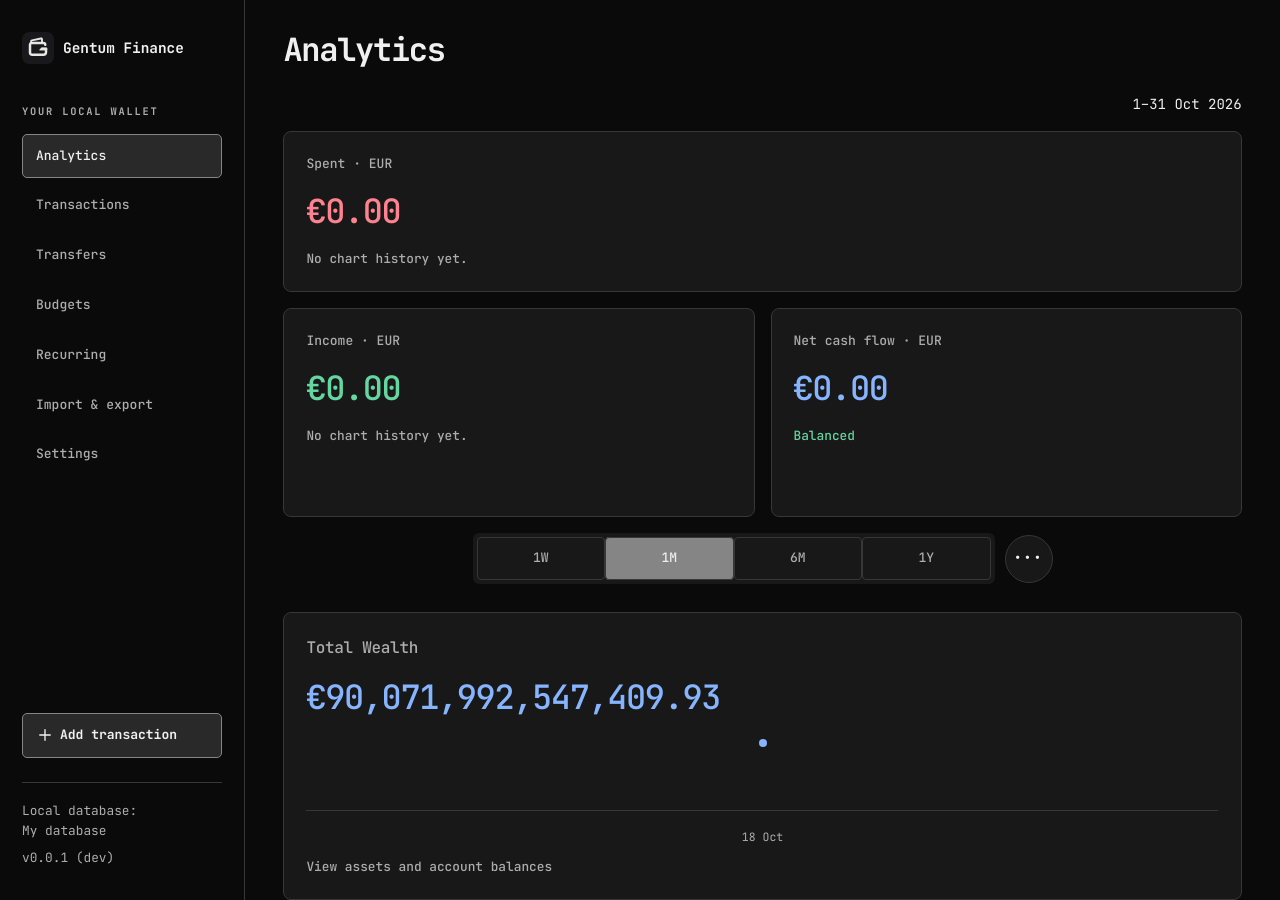
Test: renames a category with a prefilled dialog and restores focus on cancel and save
Expected: the heading "Total Wealth" is shown, left=306, top=635, right=418, bottom=661
Click the button "Settings". click: x=122, y=455
box: left=22, top=432, right=222, bottom=477
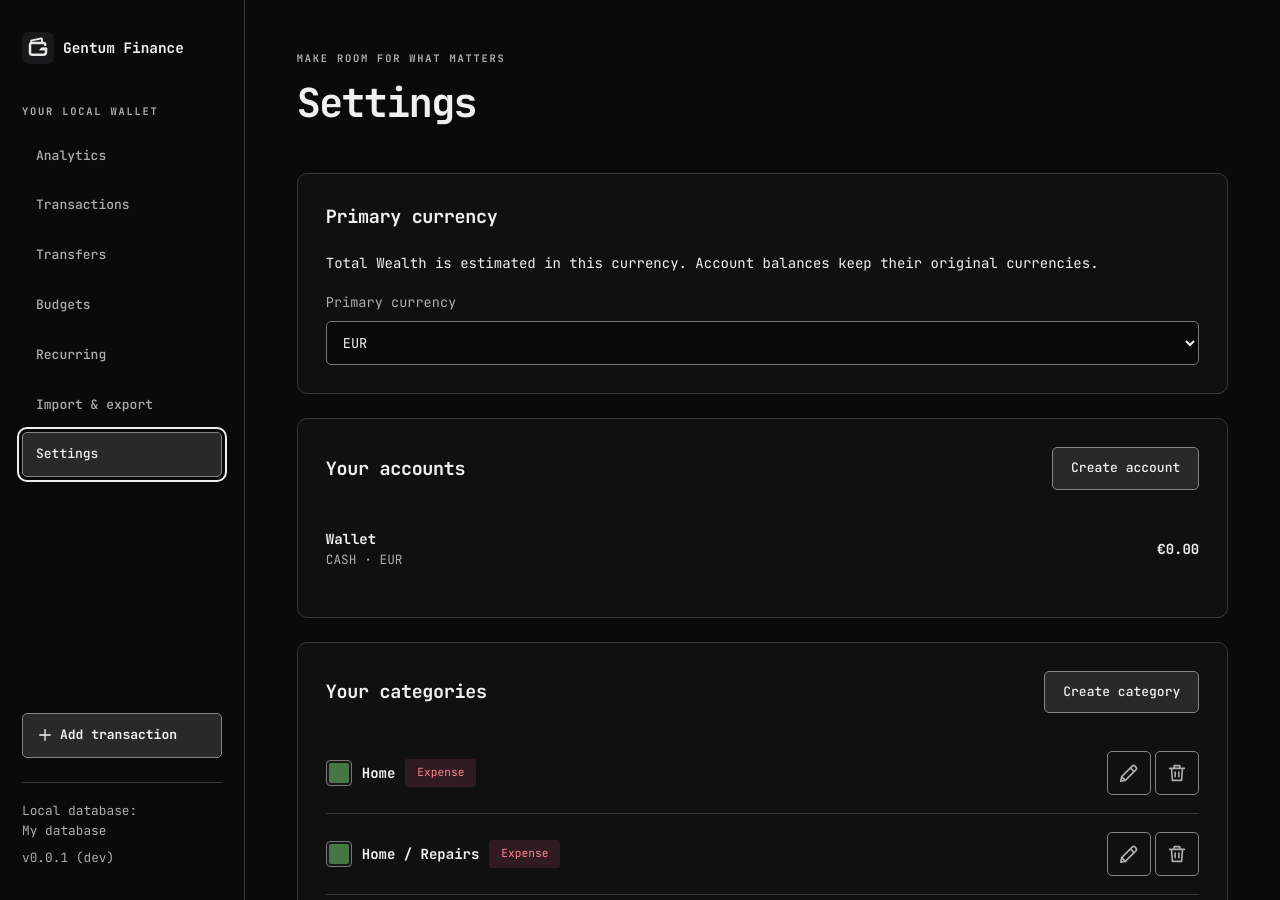
Click the button named "Edit Home / Repairs". click: x=1129, y=854
box: left=1107, top=832, right=1151, bottom=876
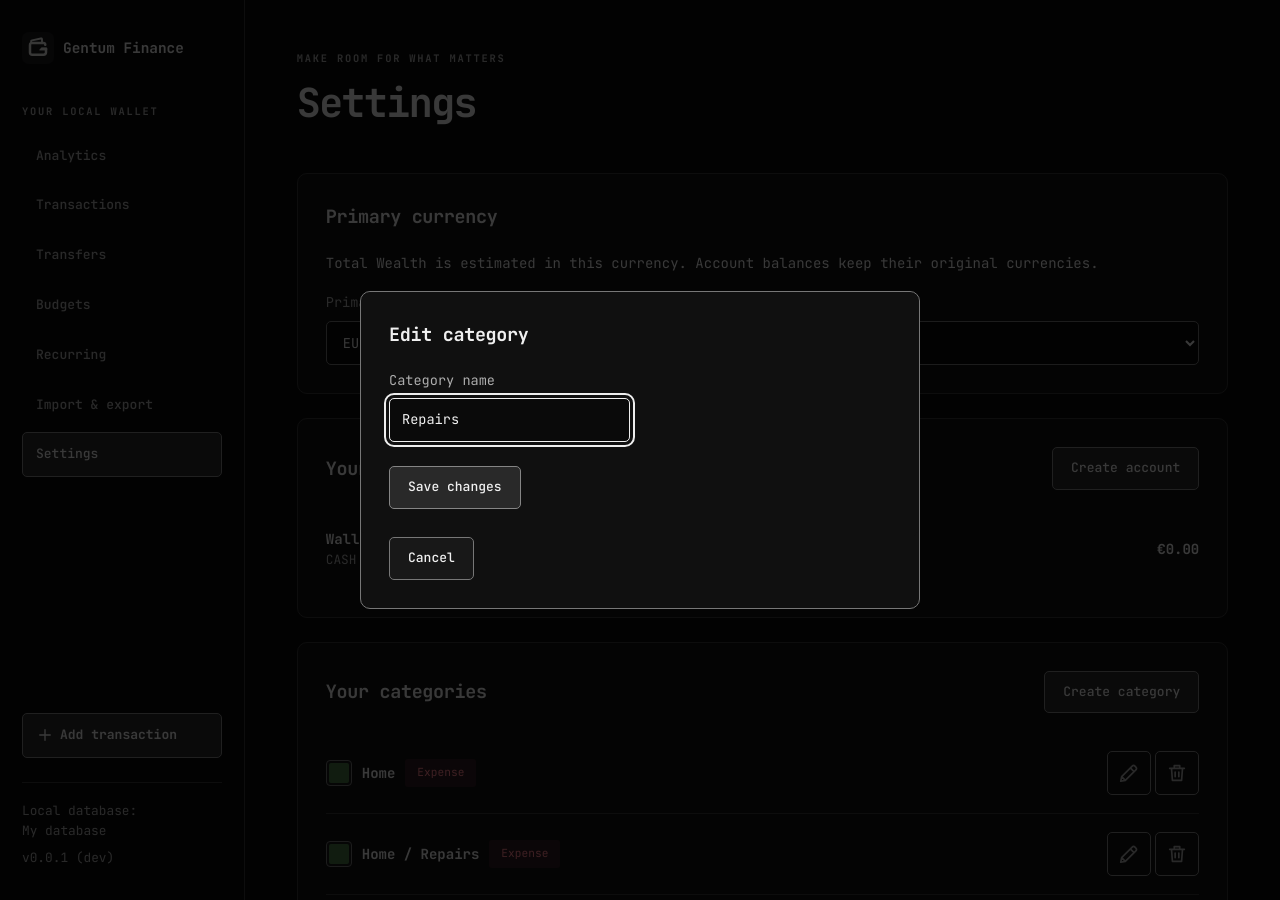
Expected: the field labelled "Category name" holds "Repairs", left=389, top=398, right=630, bottom=442
Click the button "Cancel". click: x=431, y=558
box: left=389, top=537, right=474, bottom=580
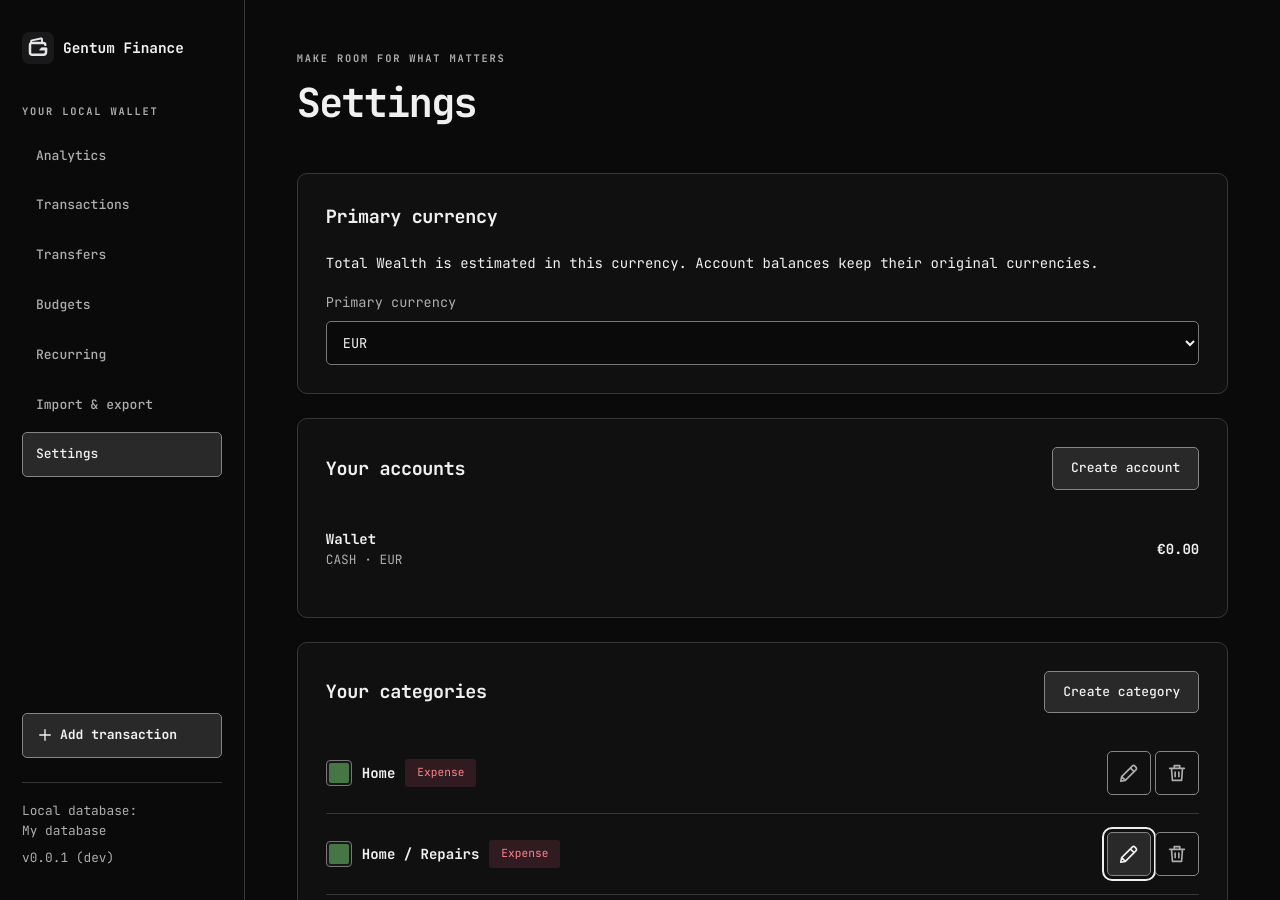
Click the button named "Edit Home / Repairs". click: x=1129, y=854
box: left=1107, top=832, right=1151, bottom=876
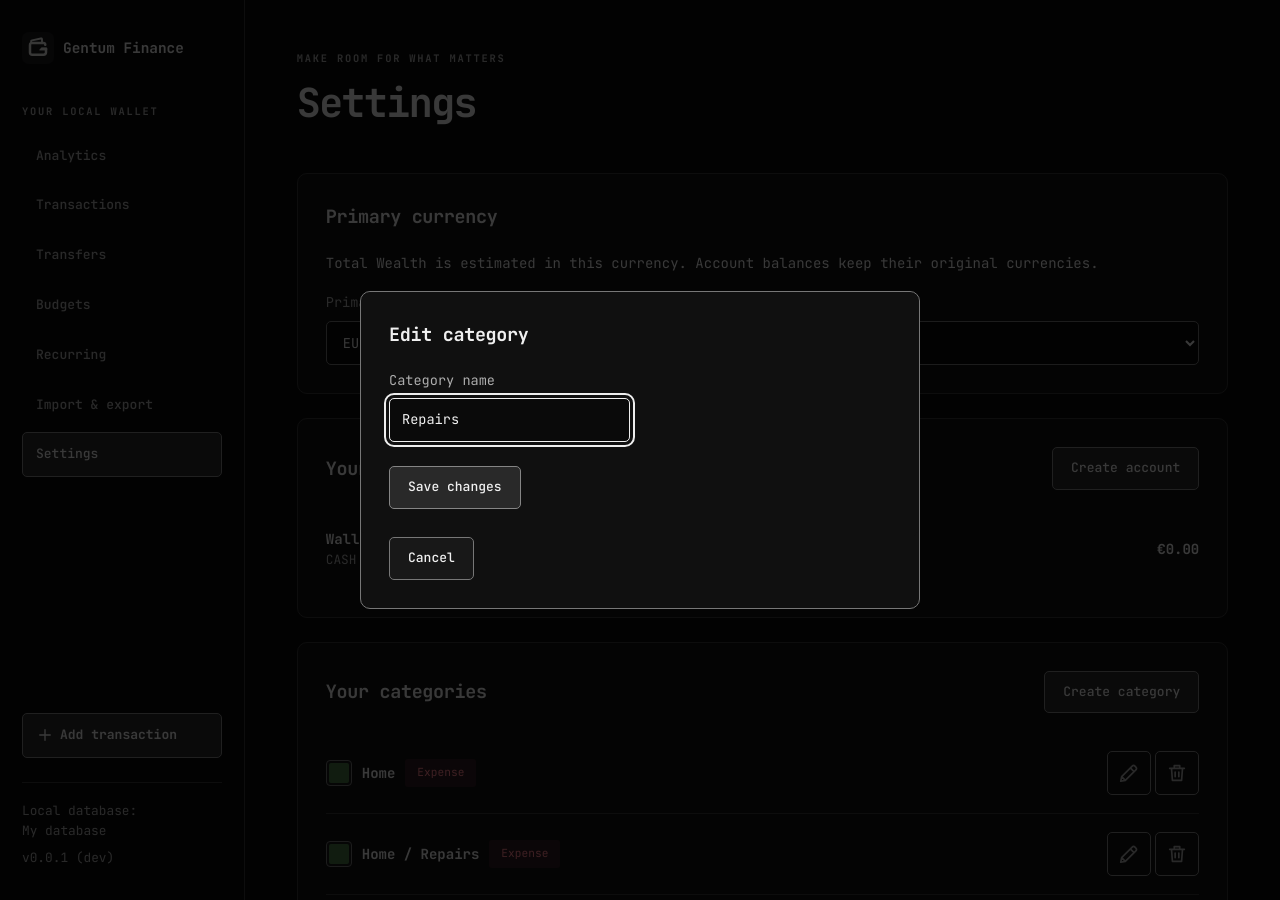
Replace the text in the field labelled "Category name" with "Maintenance". click: x=510, y=420
box: left=389, top=398, right=630, bottom=442
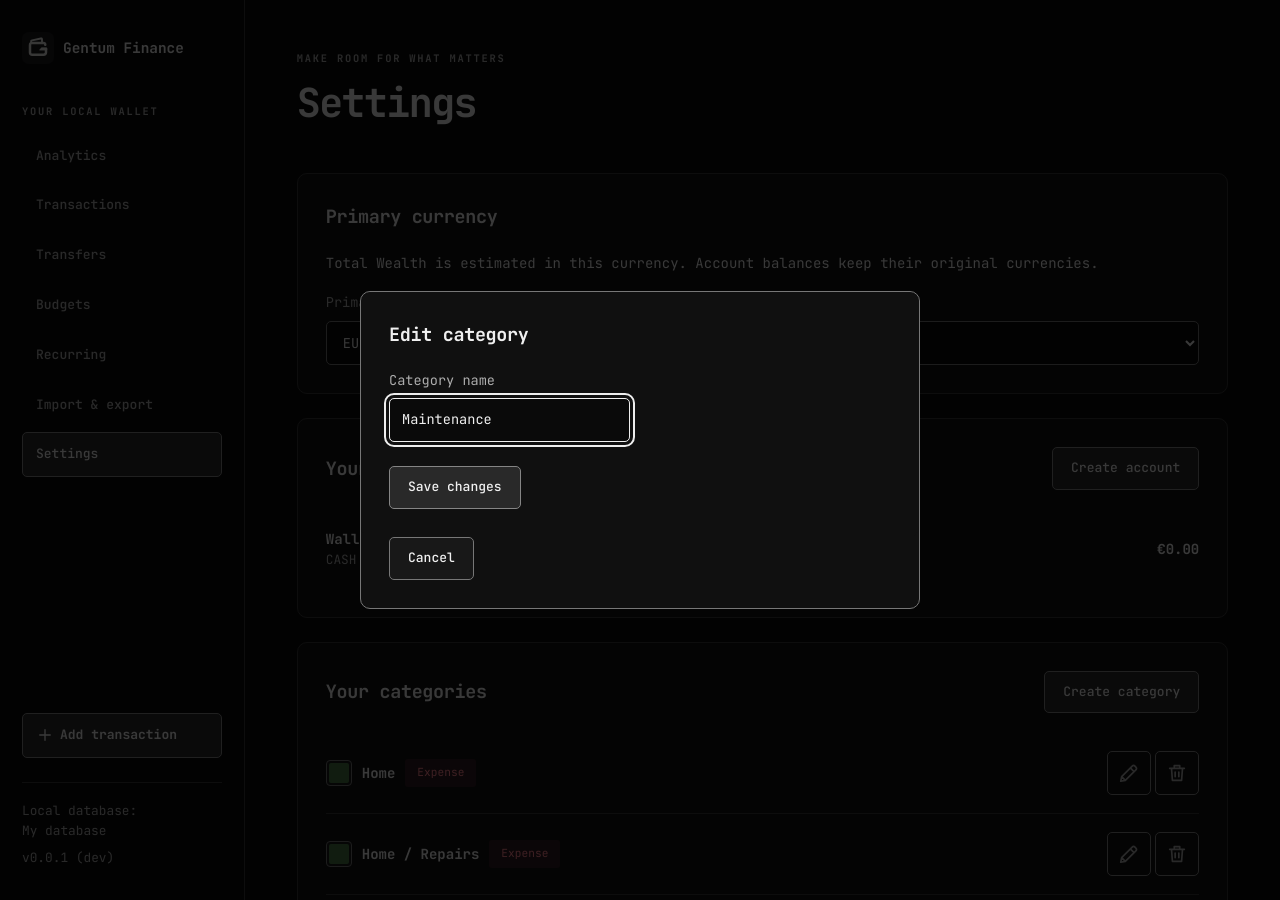
Click the button "Save changes". click: x=455, y=488
box: left=389, top=466, right=521, bottom=509
(page scrolled)
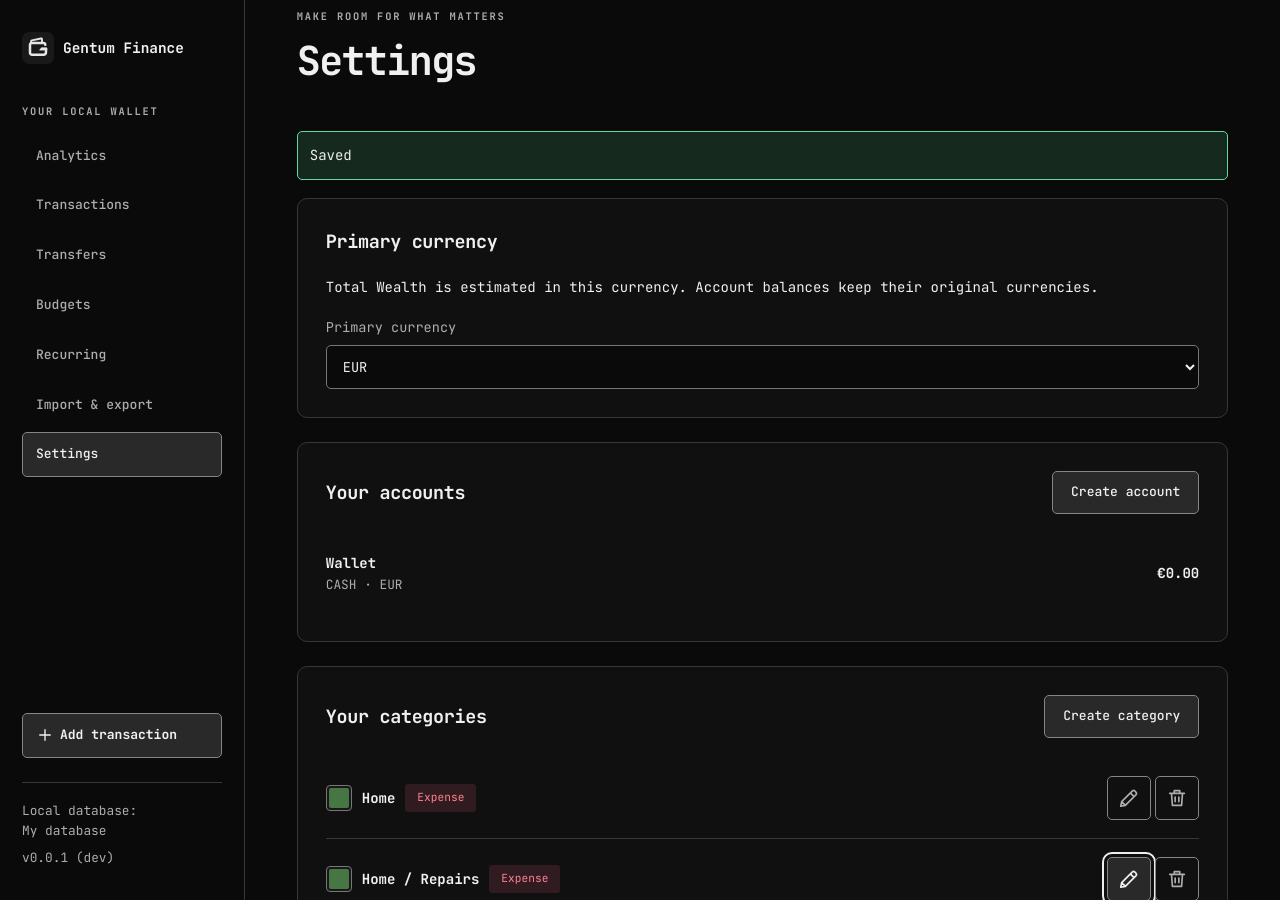
Expected: the text "Saved" is shown, left=297, top=131, right=1228, bottom=180
Expected: the dialog is gone
